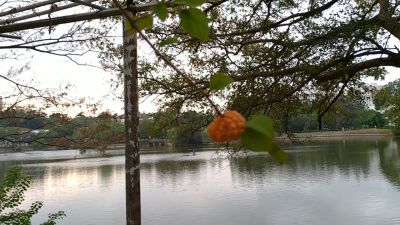eggs: (206, 109, 249, 143)
